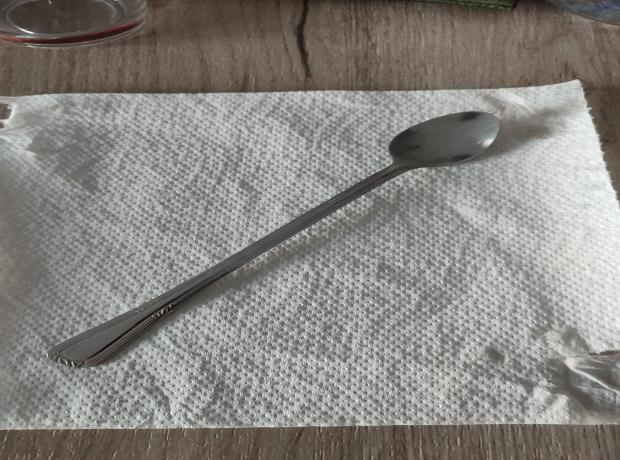metal: (44, 109, 509, 369)
